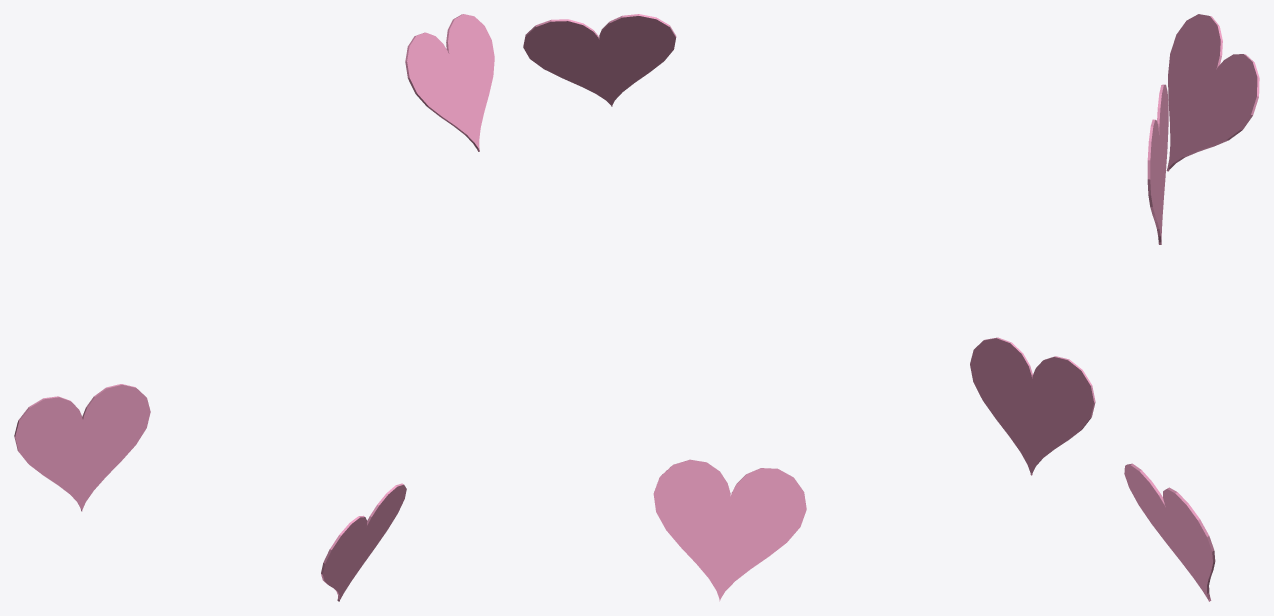
3 views of the same model, side by side, from view 1: azimuth 30°, elevation 25°; view 2: azimuth 150°, elevation 25°; view 3: azimuth 270°, elevation 25° (orthographic). The views are drawn at different scales.
Visible parts, largest first — view 1: 可隐藏爱心纸饰_1.001; view 2: 可隐藏爱心纸饰_1.001; view 3: 可隐藏爱心纸饰_1.001.
Part boxes in pixels (left/top/right/bottom): 可隐藏爱心纸饰_1.001: left=14, top=14, right=494, bottom=601; 可隐藏爱心纸饰_1.001: left=523, top=14, right=1095, bottom=601; 可隐藏爱心纸饰_1.001: left=1124, top=14, right=1259, bottom=601.
Size of the model in its own units: 0.3762 by 0.3829 by 0.0745.
